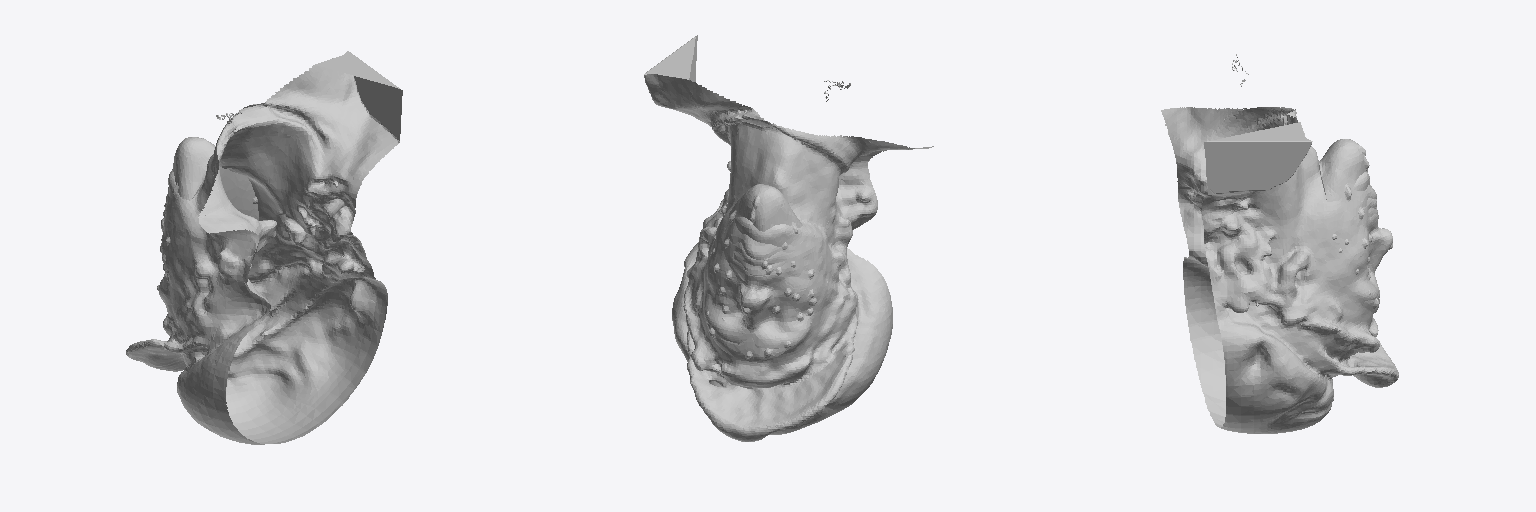
The model's file is aliflor.obj.
The picture shows the model from 3 angles: view 1: azimuth 30°, elevation 25°; view 2: azimuth 150°, elevation 25°; view 3: azimuth 270°, elevation 25°; orthographic projection.
Visible parts, largest first — view 1: ali, aliflor001; view 2: ali, aliflor001; view 3: ali, aliflor001.
Part boxes in pixels (left/top/right/bottom): ali: left=126, top=51, right=402, bottom=444; aliflor001: left=157, top=137, right=258, bottom=289; ali: left=644, top=35, right=933, bottom=441; aliflor001: left=706, top=184, right=822, bottom=361; ali: left=1161, top=107, right=1398, bottom=433; aliflor001: left=1319, top=139, right=1392, bottom=312.
Bounding box in the file's own units: 1082 × 1642 × 1031.